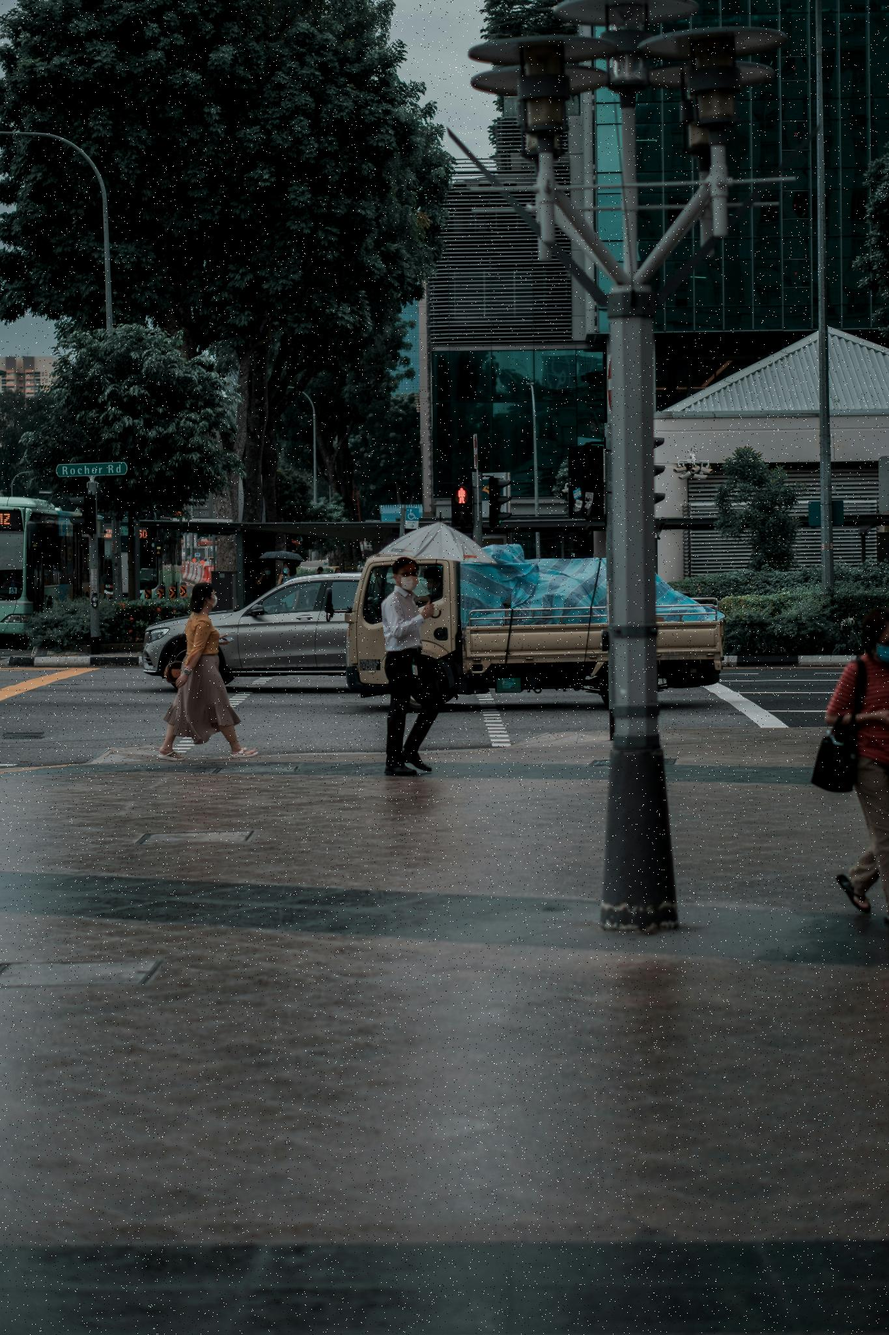car: (271, 531, 724, 704), (212, 572, 363, 688), (140, 623, 188, 677)
pedestrian: (821, 617, 884, 942), (156, 588, 253, 765), (381, 554, 432, 779)
